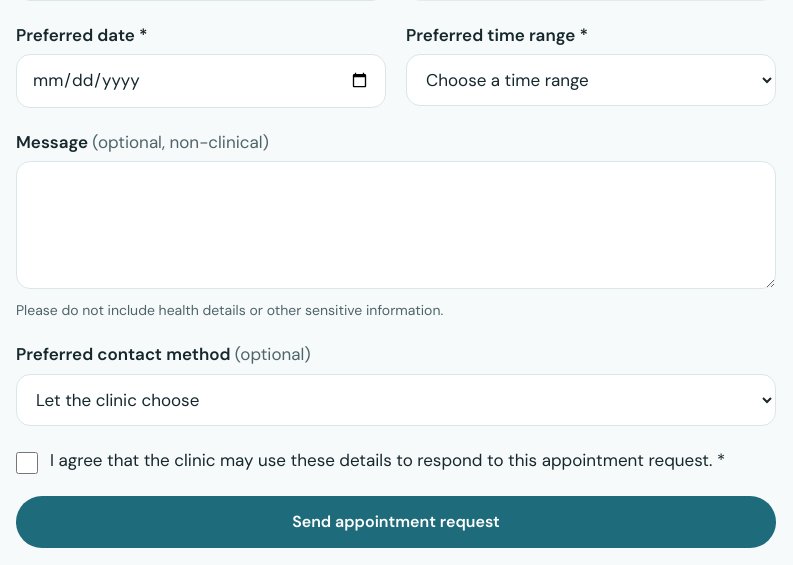
Test case: appointment form states › shows errors for required fields after an empty submit
(page scrolled)
Click the button "Send appointment request" at (396, 522), box [16,496,776,548]
(page scrolled)
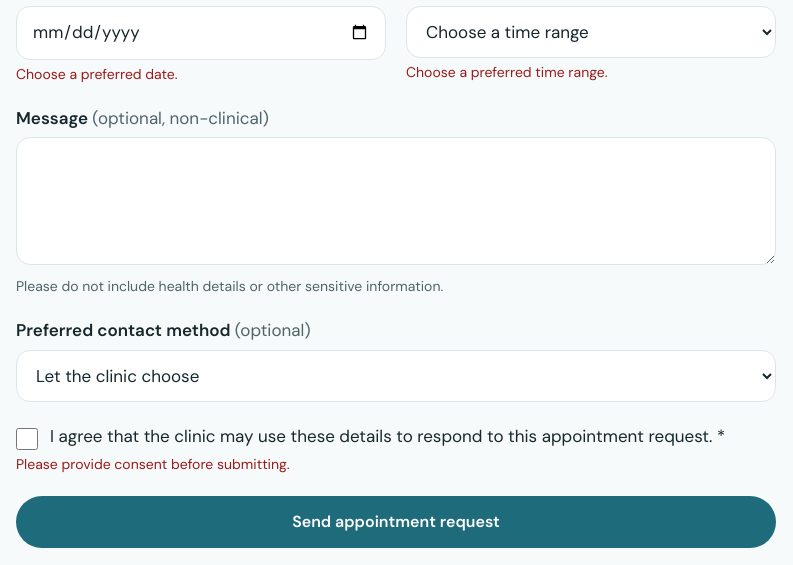
Expected: the text "Choose a preferred date." is shown, [16,64,178,82]
Expected: the text "Choose a preferred time range." is shown, [406,63,607,81]
Expected: the text "Please provide consent before submitting." is shown, [16,454,290,472]
